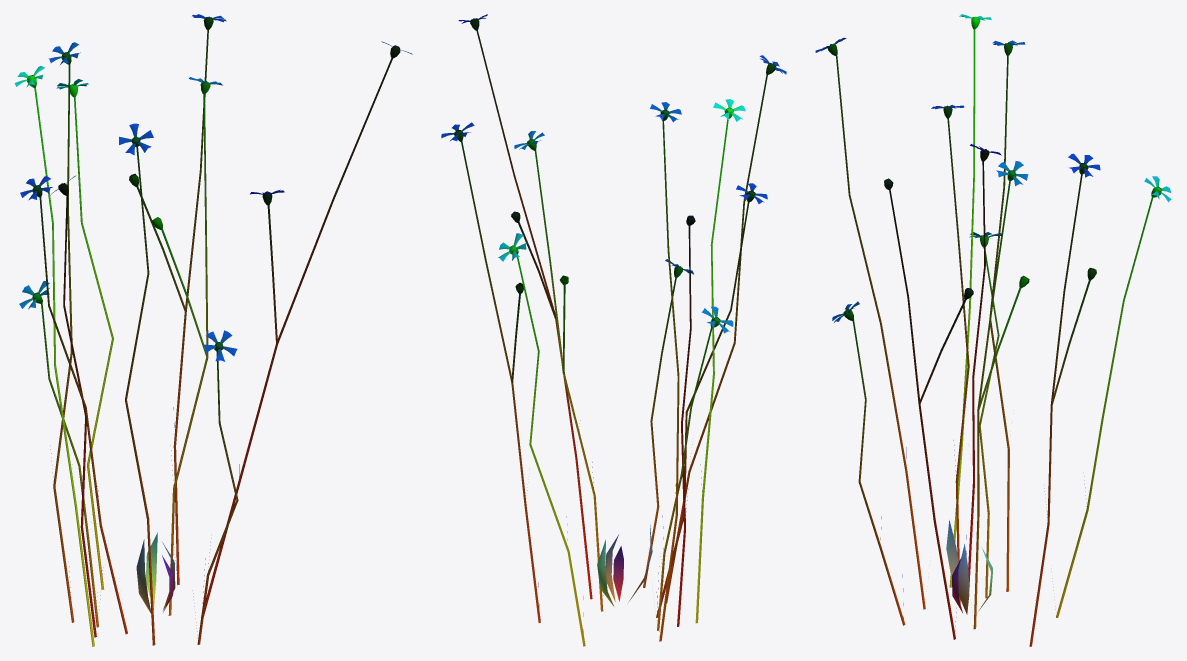
Rendered from SM_Flower_Cornflower_B_LOD2.fbx.
3 renders of one model, left to right at view 1: azimuth 30°, elevation 25°; view 2: azimuth 150°, elevation 25°; view 3: azimuth 270°, elevation 25°, orthographic. The views are drawn at different scales.
Visible parts, largest first — view 1: SM_Flower_Cornflower_B_LOD2; view 2: SM_Flower_Cornflower_B_LOD2; view 3: SM_Flower_Cornflower_B_LOD2.
Boxes of the visible parts, x1,y1,x2,y2 form: SM_Flower_Cornflower_B_LOD2: (14,14,412,646); SM_Flower_Cornflower_B_LOD2: (441,14,786,646); SM_Flower_Cornflower_B_LOD2: (815,14,1171,646).
Bounding box in the file's own units: 0.4478 × 0.6898 × 0.4038.
